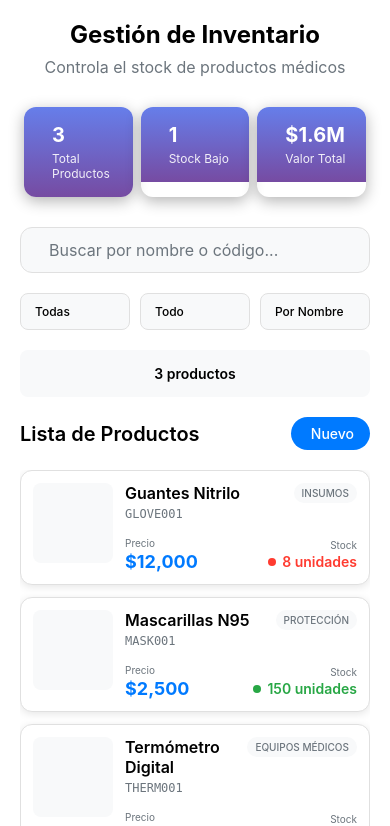
Scenario: InventoryScreen › Modal Interactions › closes add product modal when cancel is pressed
Step 1. Click the text "Nuevo" → [332, 434], box x1=311 y1=425 x2=354 y2=442
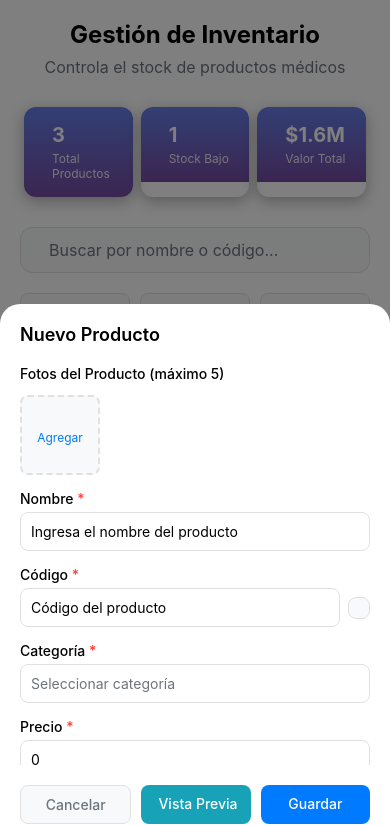
expect the text "Nuevo Producto" is shown: met, box x1=20 y1=324 x2=160 y2=345
Step 2. Click the text "Cancelar" → [76, 804], box x1=46 y1=796 x2=106 y2=813
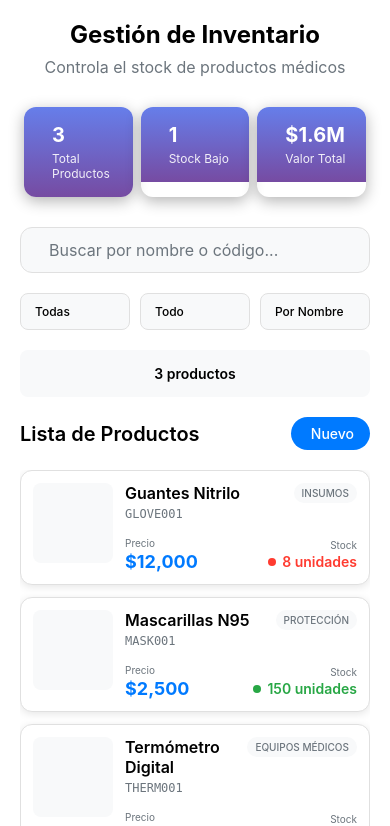
expect the text "Nuevo Producto" is gone: met
